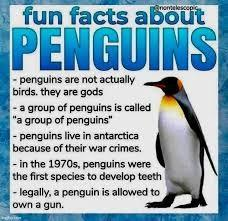king: (137, 67, 215, 213)
